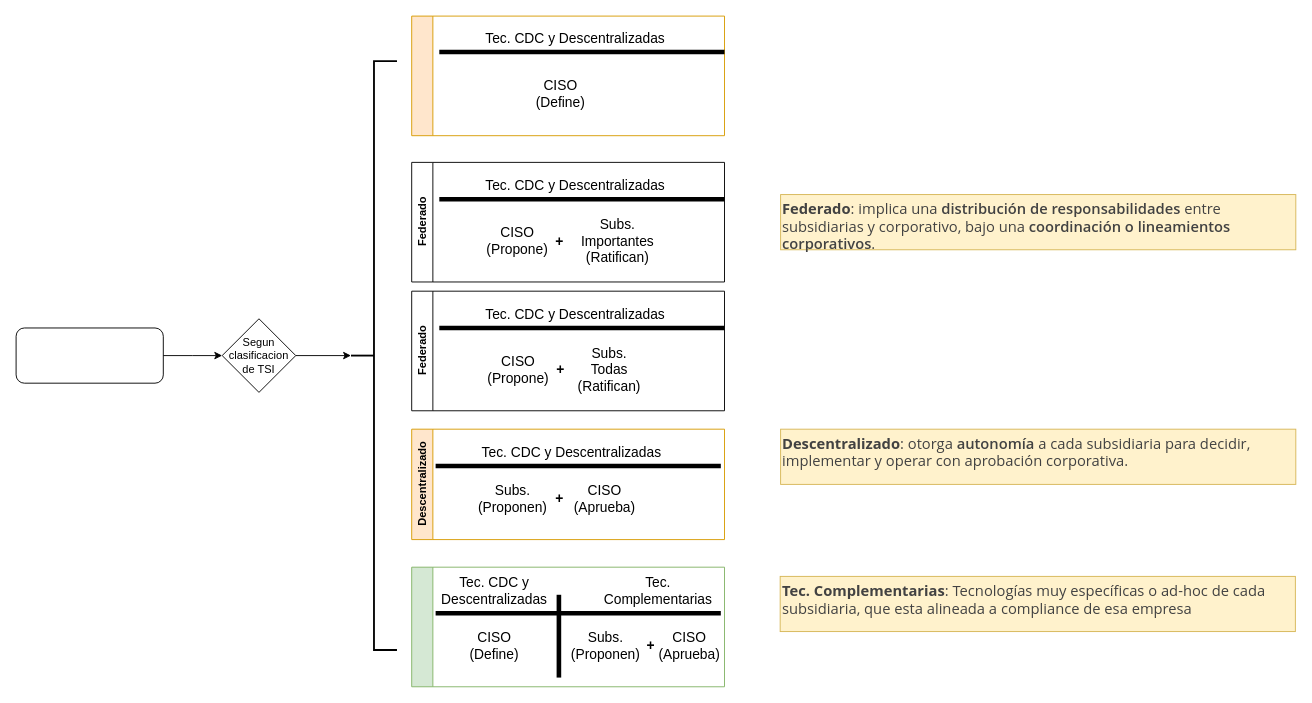
This 1312x703 diagram has some shape labels left out. The shapes that lost their labels are listed below. From the top down, each one's box as (x1, y1, x2, y2) in pixels, then its label:
(411, 15, 724, 136): Centralizado
(15, 327, 163, 383): Identificar Escenario
(411, 566, 724, 687): Híbrido
